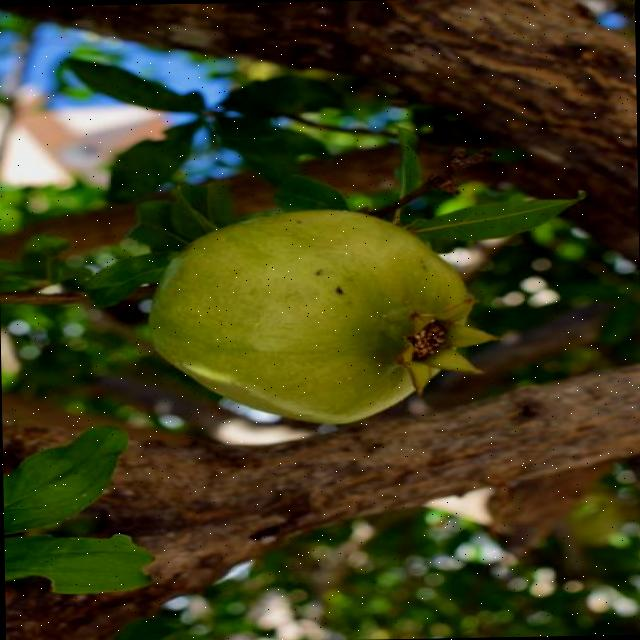Unripe: (142, 204, 501, 426)
